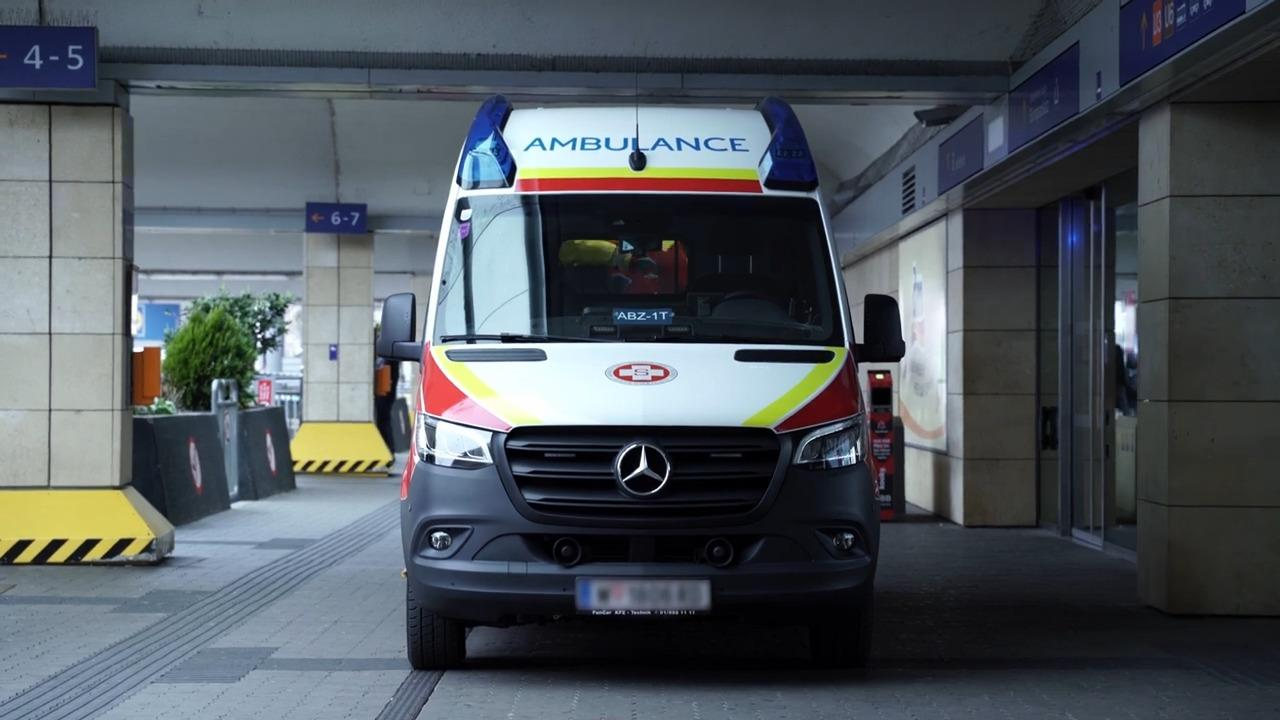car: (377, 91, 906, 672)
